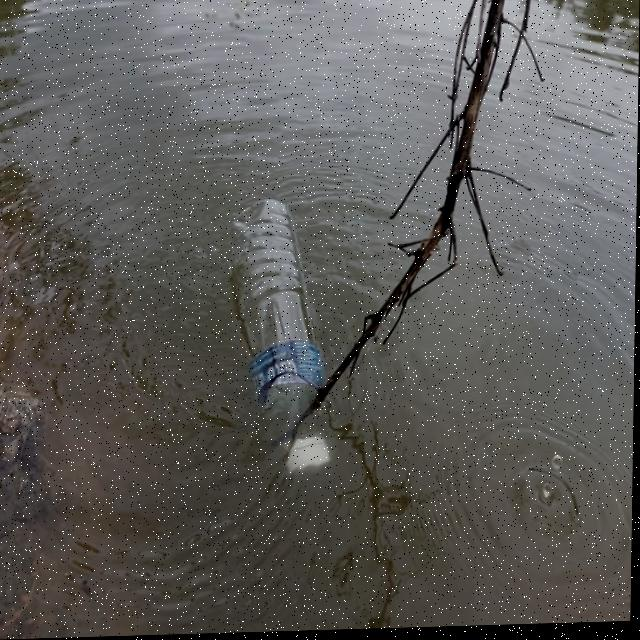waterbottle: (213, 189, 346, 501)
